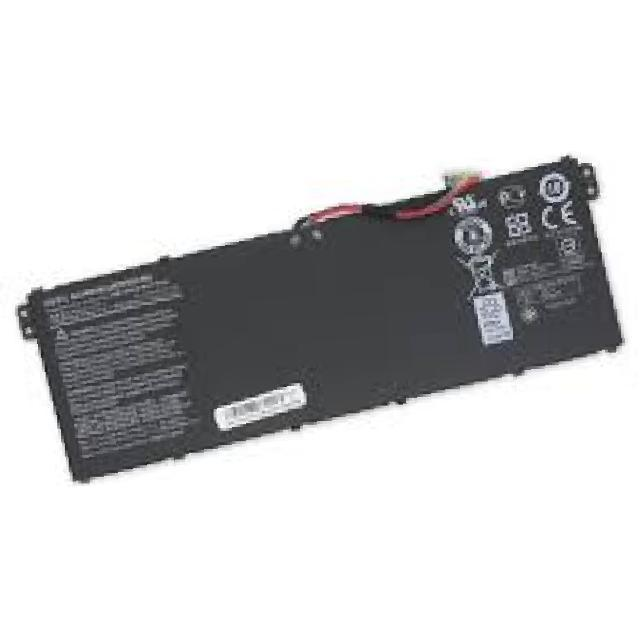Battery: (2, 123, 639, 511)
